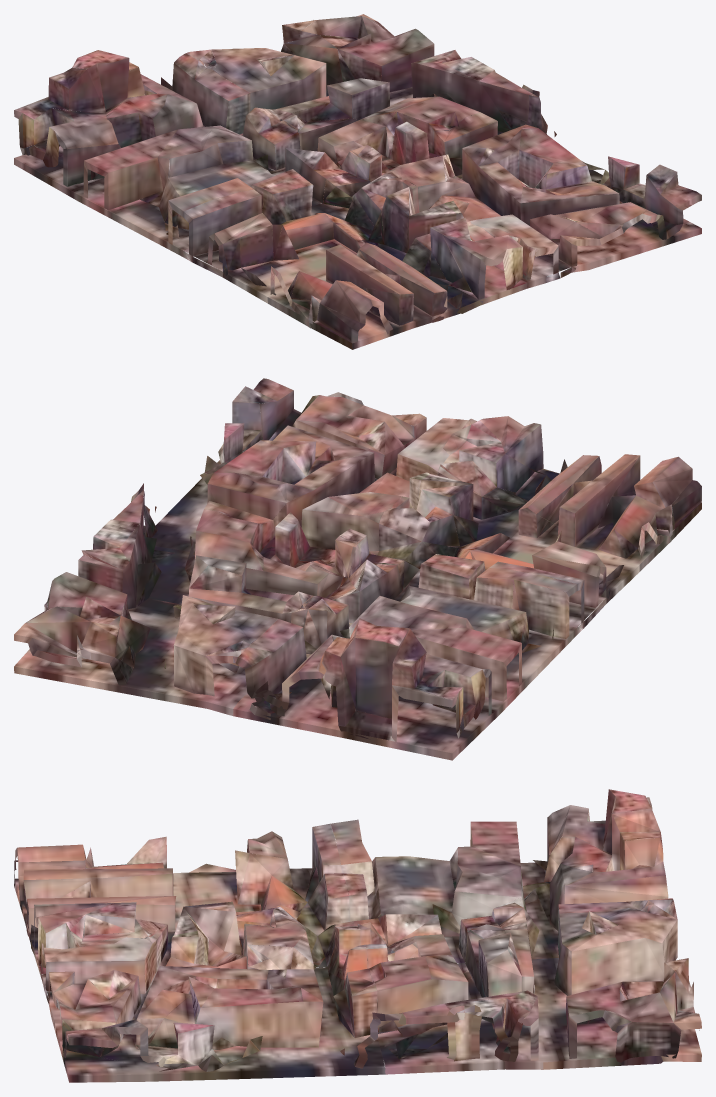
3 views of the same model, one above another, from view 1: azimuth 30°, elevation 25°; view 2: azimuth 150°, elevation 25°; view 3: azimuth 270°, elevation 25° (orthographic). The views are drawn at different scales.
Visible parts, largest first — view 1: Mesh_0; view 2: Mesh_0; view 3: Mesh_0.
Part boxes in pixels (x1,y1,x2,y2): Mesh_0: (14, 14, 701, 349); Mesh_0: (14, 378, 701, 760); Mesh_0: (14, 789, 701, 1082).
Size of the model in its own units: 266 by 55.93 by 330.
Materials: 2 (2 with a texture image).
